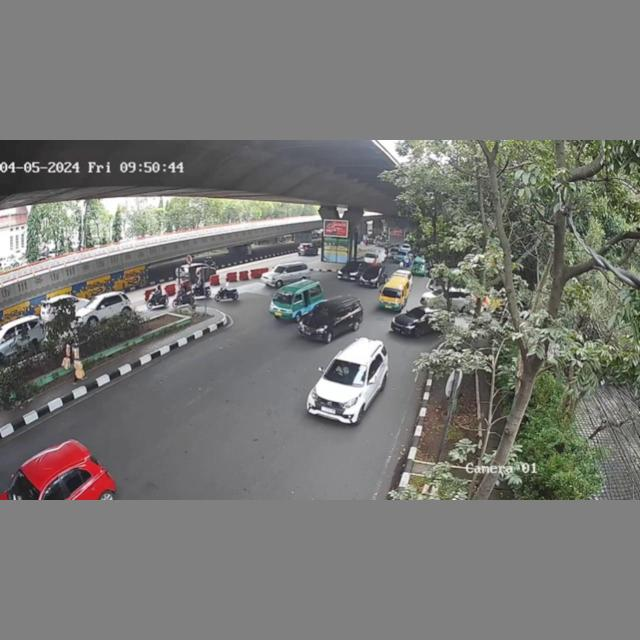windshield: (324, 357, 367, 387), (311, 305, 338, 322), (272, 290, 294, 304)
